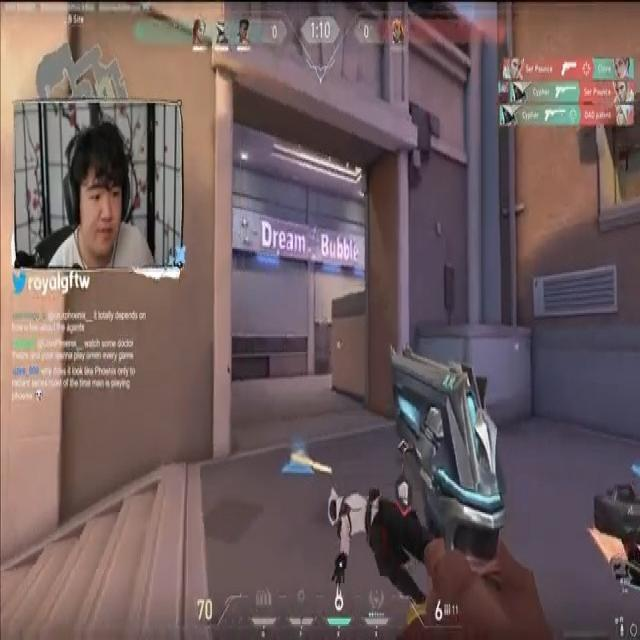gun: (283, 436, 335, 484)
spike: (592, 476, 640, 540)
